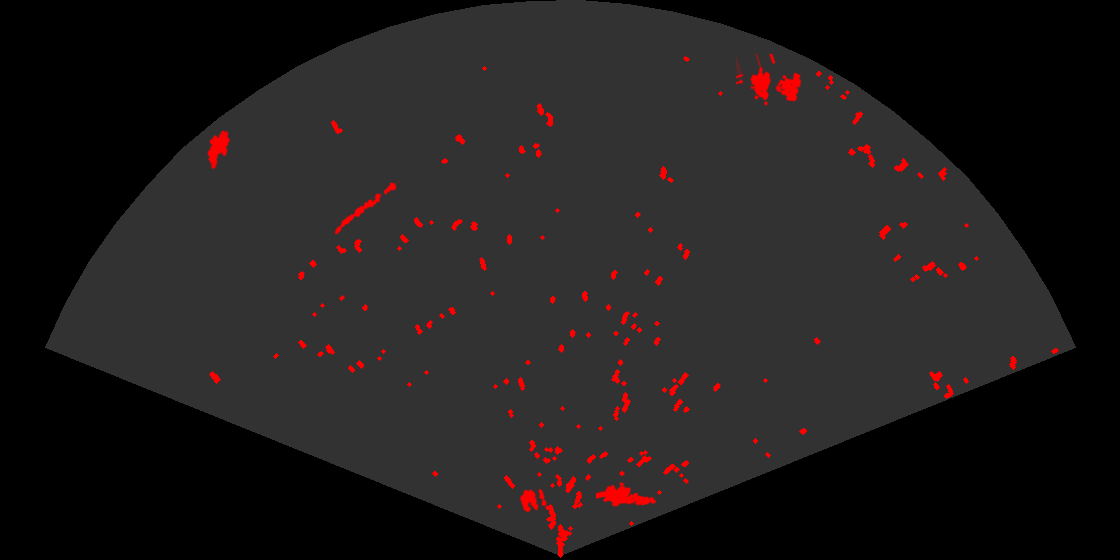AUV: (206, 129, 232, 171)
ball: (518, 487, 548, 514)
cage: (736, 54, 803, 107)
chain: (333, 178, 401, 236)
frogman: (596, 480, 657, 508)
